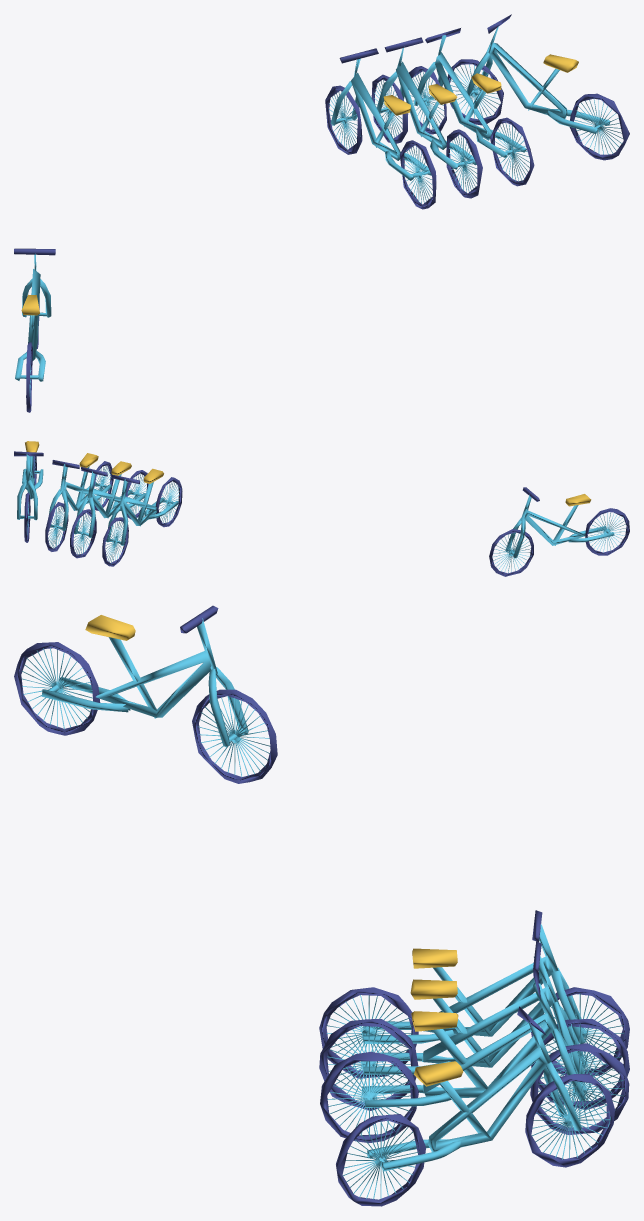
The model's file is 073_自転車004.glb.
The picture shows the model from 3 angles, top to bottom: view 1: azimuth 30°, elevation 25°; view 2: azimuth 150°, elevation 25°; view 3: azimuth 270°, elevation 25°; orthographic projection. The views are drawn at different scales.
Parts seen in each view (by area): view 1: 円柱067, 円柱067_1, 円柱067_2; view 2: 円柱067, 円柱067_1, 円柱067_2; view 3: 円柱067, 円柱067_1, 円柱067_2.
Boxes of the visible parts, <box> form: 円柱067: <box>15,26,622,397</box>; 円柱067_1: <box>14,14,629,412</box>; 円柱067_2: <box>21,54,578,315</box>; 円柱067: <box>17,454,625,572</box>; 円柱067_1: <box>14,451,629,576</box>; 円柱067_2: <box>25,441,591,506</box>; 円柱067: <box>21,618,624,1199</box>; 円柱067_1: <box>14,605,629,1206</box>; 円柱067_2: <box>85,615,463,1086</box>.
Size of the model in its own units: 8.11 by 1.2 by 4.27.
